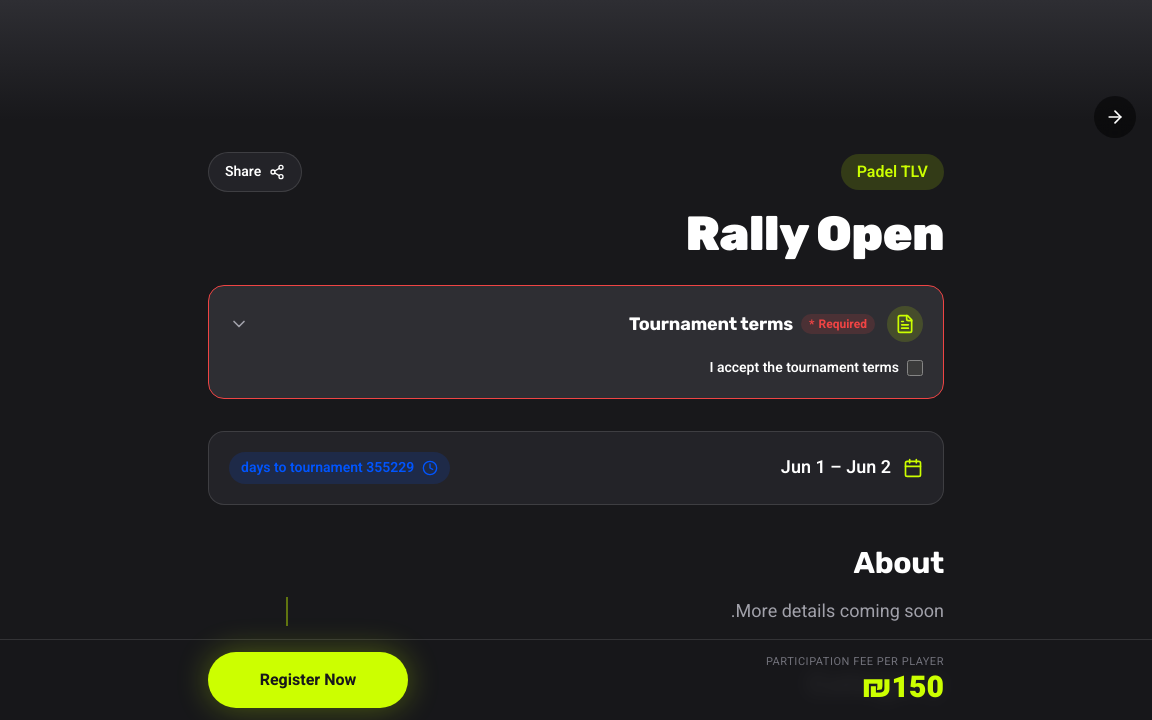
Scenario: TournamentDetailPage registration gate — real ScreenMessageCard + real useRegistrationGate › honors consent withdrawn while the profile check is pending
What coordinates should you click on to do the following:
click the checkbox
I would click on:
 (915, 368)
Its box is [907,360,923,376].
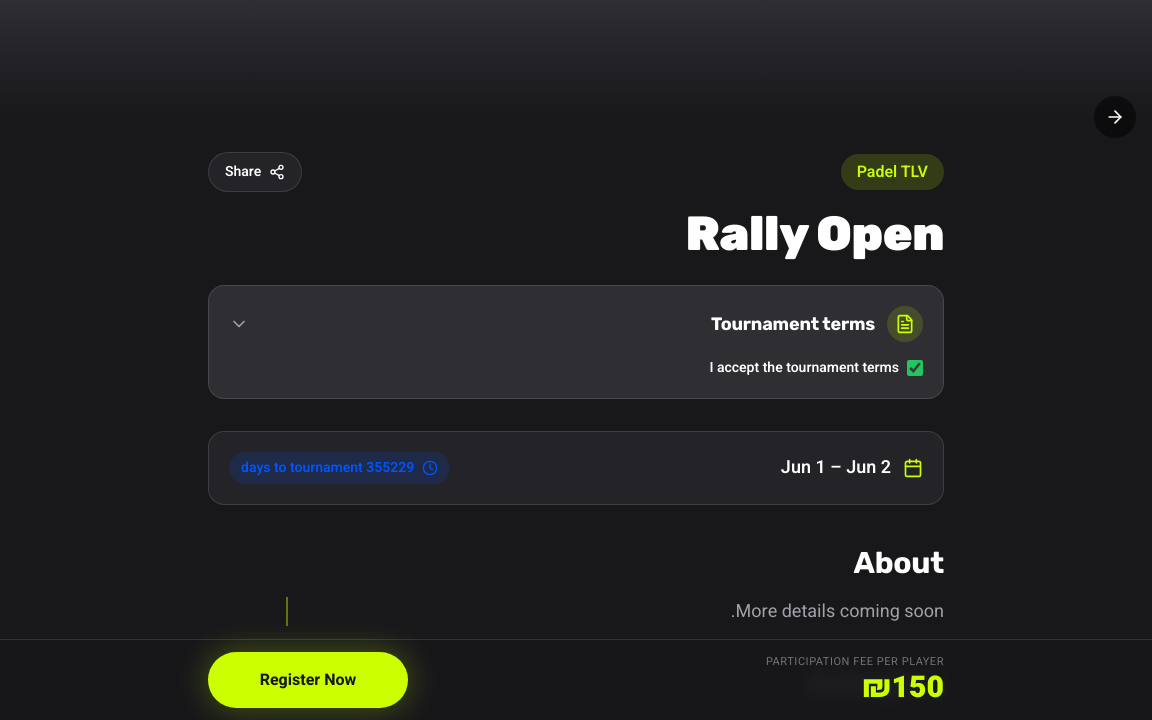
What coordinates should you click on to do the following:
click the button "Register Now"
I would click on:
 (308, 680)
Its box is [208,652,408,708].
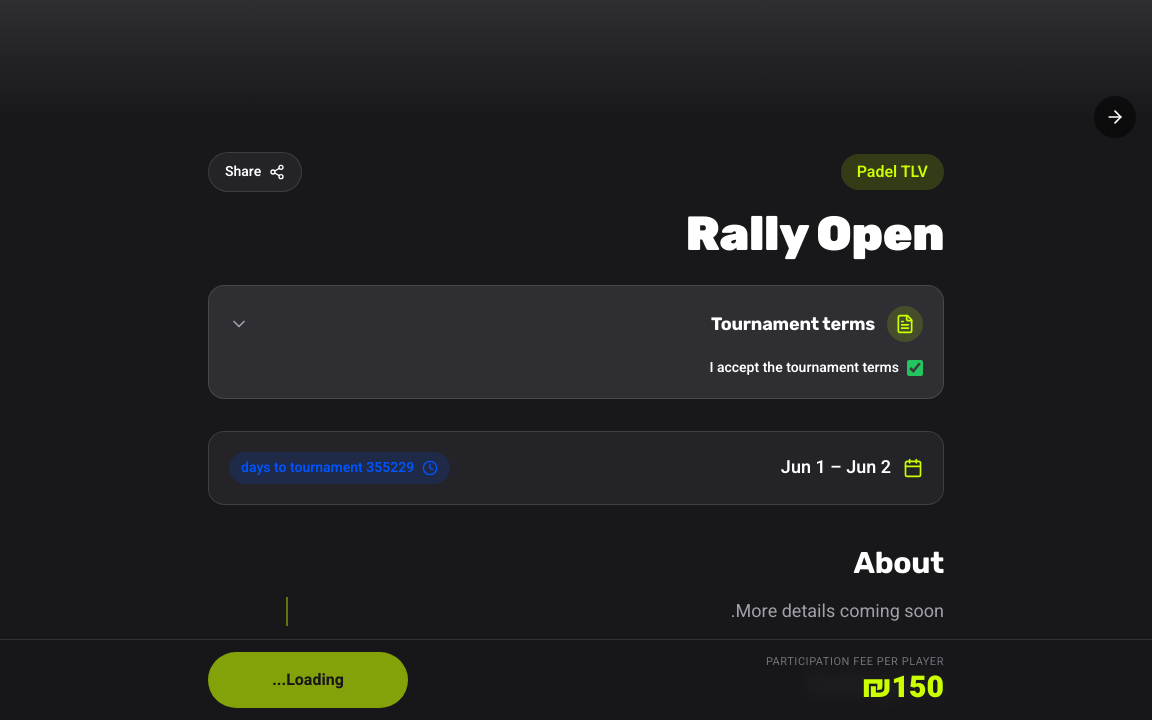
Expected: the button named "Register Now" is disabled, [208,652,408,708]
What coordinates should you click on to do the following:
click the checkbox
I would click on:
 (915, 368)
Its box is [907,360,923,376].
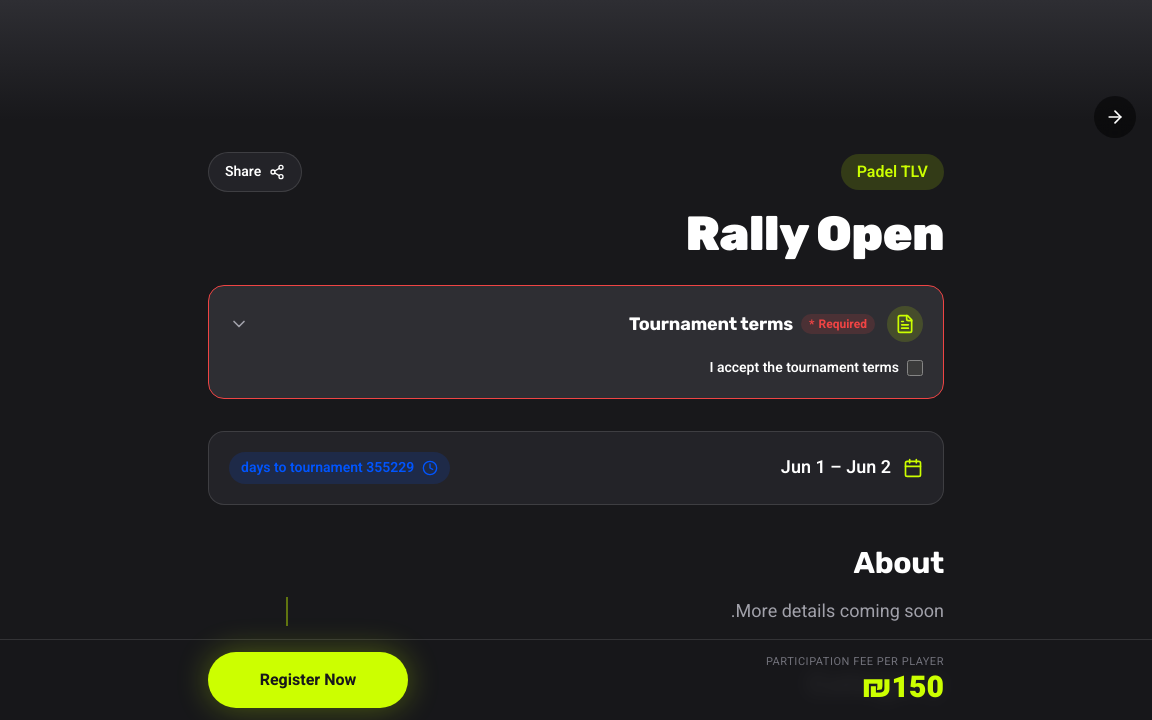
Expected: the button "Register Now" is enabled, [208,652,408,708]
